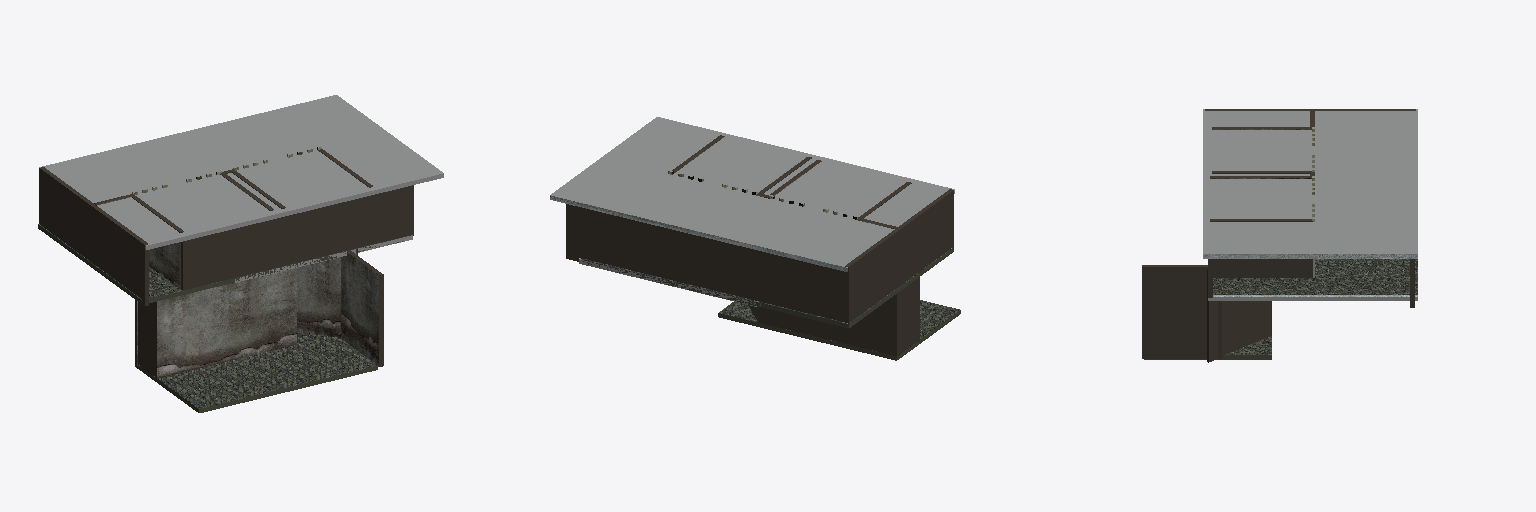
3 views of the same model, side by side, from view 1: azimuth 30°, elevation 25°; view 2: azimuth 150°, elevation 25°; view 3: azimuth 270°, elevation 25° (orthographic).
Visible parts, largest first — view 1: Boundary.001_Cube.003, Boundary.004_Cube.006, Boundary.011_Cube.030, Boundary.012_Cube.031, Boundary.014_Cube.033, Boundary.020_Cube.042, Boundary.019_Cube.041, Boundary.017_Cube.039, Boundary.013_Cube.034, Boundary.008_Cube.014, Boundary.016_Cube.036; view 2: Boundary.001_Cube.003, Boundary.015_Cube.035, Boundary.014_Cube.033, Boundary.010_Cube.029, Boundary.012_Cube.031, Boundary.013_Cube.034, Boundary.006_Cube.013, Boundary_Cube, Boundary.016_Cube.036; view 3: Boundary.001_Cube.003, Boundary.020_Cube.042, Boundary_Cube, Boundary.019_Cube.041, Boundary.003_Cube.005, Boundary.016_Cube.036, Boundary.012_Cube.031.
Boxes of the visible parts, <box> form: Boundary.001_Cube.003: <box>39,95,443,249</box>; Boundary.004_Cube.006: <box>181,185,413,290</box>; Boundary.011_Cube.030: <box>155,268,296,379</box>; Boundary.012_Cube.031: <box>135,333,377,412</box>; Boundary.014_Cube.033: <box>39,167,148,305</box>; Boundary.020_Cube.042: <box>341,251,383,366</box>; Boundary.019_Cube.041: <box>297,249,357,337</box>; Boundary.017_Cube.039: <box>130,194,183,288</box>; Boundary.013_Cube.034: <box>138,302,154,375</box>; Boundary.008_Cube.014: <box>127,279,230,304</box>; Boundary.016_Cube.036: <box>235,235,412,282</box>; Boundary.001_Cube.003: <box>550,117,954,271</box>; Boundary.015_Cube.035: <box>566,204,844,321</box>; Boundary.014_Cube.033: <box>845,189,953,328</box>; Boundary.010_Cube.029: <box>759,292,899,357</box>; Boundary.012_Cube.031: <box>718,300,960,360</box>; Boundary.013_Cube.034: <box>893,279,916,355</box>; Boundary.006_Cube.013: <box>761,268,925,327</box>; Boundary_Cube: <box>582,259,760,306</box>; Boundary.016_Cube.036: <box>579,258,756,306</box>; Boundary.001_Cube.003: <box>1203,109,1417,258</box>; Boundary.020_Cube.042: <box>1142,265,1221,358</box>; Boundary_Cube: <box>1213,259,1417,294</box>; Boundary.019_Cube.041: <box>1207,270,1270,362</box>; Boundary.003_Cube.005: <box>1210,219,1312,277</box>; Boundary.016_Cube.036: <box>1208,295,1417,300</box>; Boundary.012_Cube.031: <box>1144,336,1271,359</box>.
Bounding box in the file's own units: 6.72 × 3.33 × 5.36.
11 materials, 7 textured.